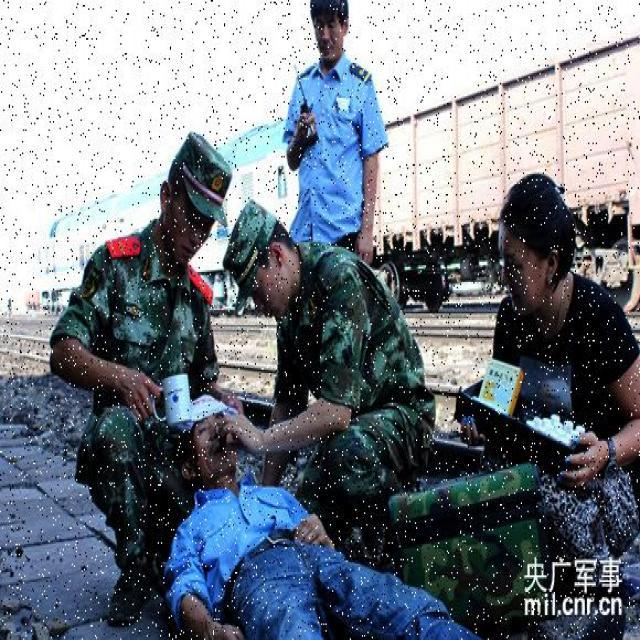fall: (173, 422, 454, 638)
